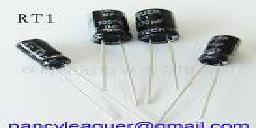Electrolytic Capacitor: (89, 8, 144, 116), (133, 6, 180, 105), (185, 27, 252, 92), (16, 34, 90, 87)
